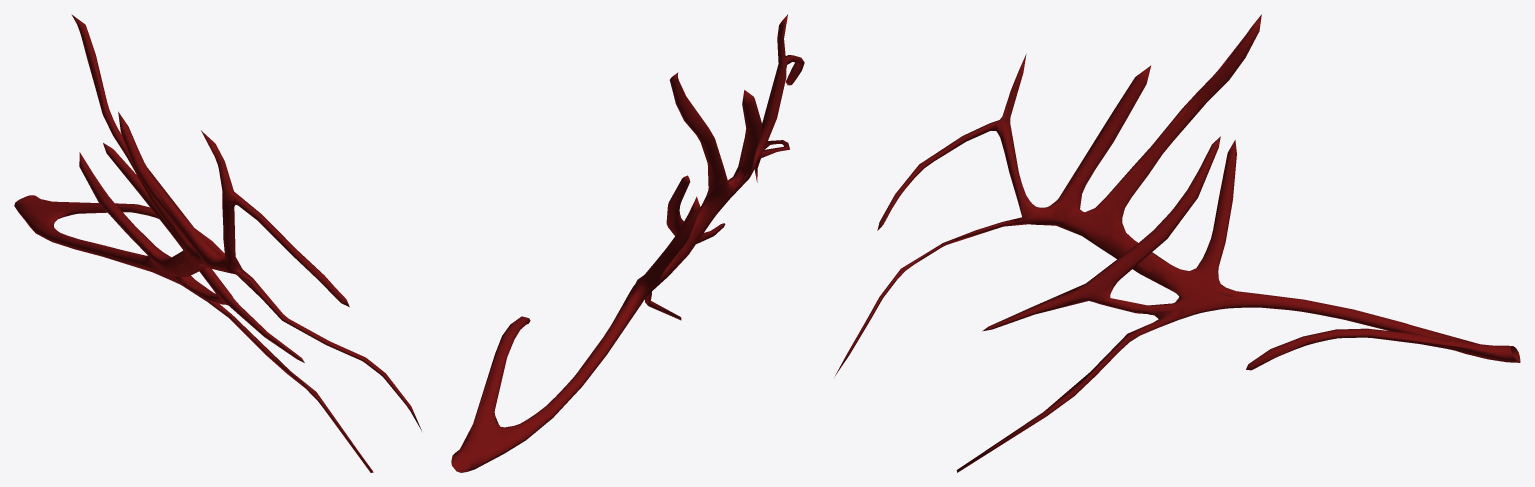
File: R arteria facialis.fbx
3 renders of one model, left to right at view 1: azimuth 30°, elevation 25°; view 2: azimuth 150°, elevation 25°; view 3: azimuth 270°, elevation 25°, orthographic. The views are drawn at different scales.
Visible parts, largest first — view 1: R arteria facialis, R arteria facialis low, R arteria facialis high; view 2: R arteria facialis, R arteria facialis low, R arteria facialis high; view 3: R arteria facialis, R arteria facialis low, R arteria facialis high.
Boxes of the visible parts, left/top/right/bottom form: R arteria facialis: left=14, top=14, right=421, bottom=472; R arteria facialis low: left=15, top=28, right=357, bottom=391; R arteria facialis high: left=20, top=23, right=408, bottom=431; R arteria facialis: left=451, top=14, right=804, bottom=472; R arteria facialis low: left=452, top=15, right=799, bottom=471; R arteria facialis high: left=451, top=35, right=801, bottom=472; R arteria facialis: left=834, top=14, right=1519, bottom=472; R arteria facialis low: left=890, top=31, right=1520, bottom=465; R arteria facialis high: left=859, top=43, right=1520, bottom=454.
Size of the model in its own units: 3.99 by 8.93 by 14.42.
